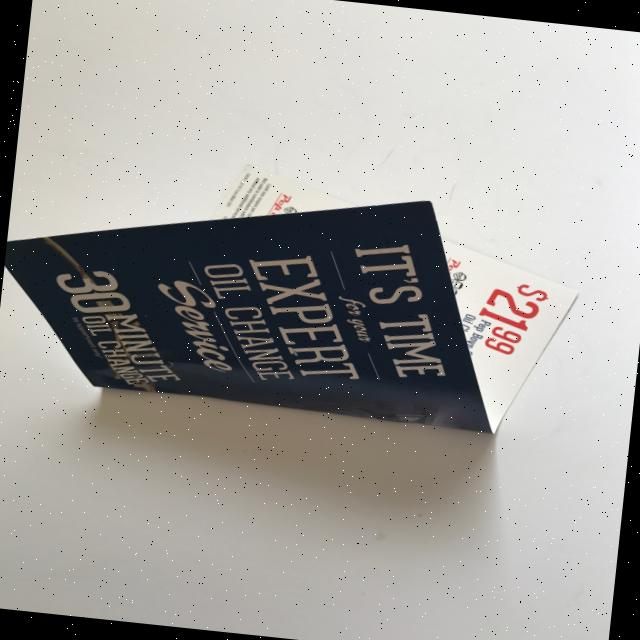paper: (0, 150, 586, 442)
